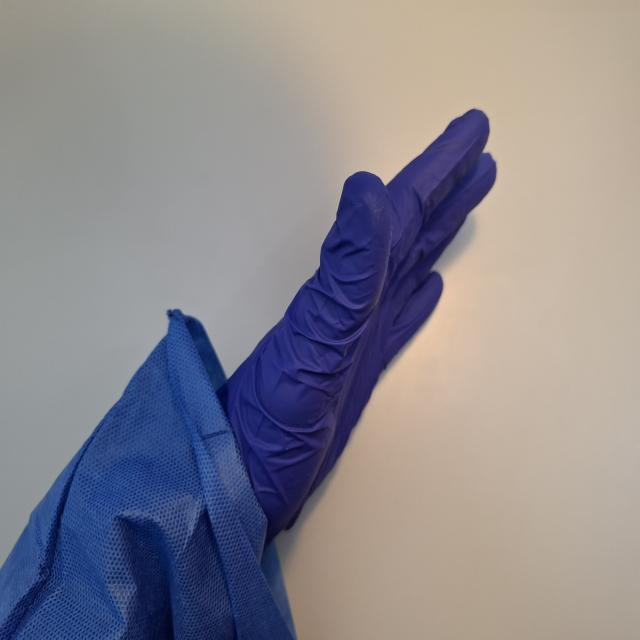glove_on: (173, 103, 500, 556)
